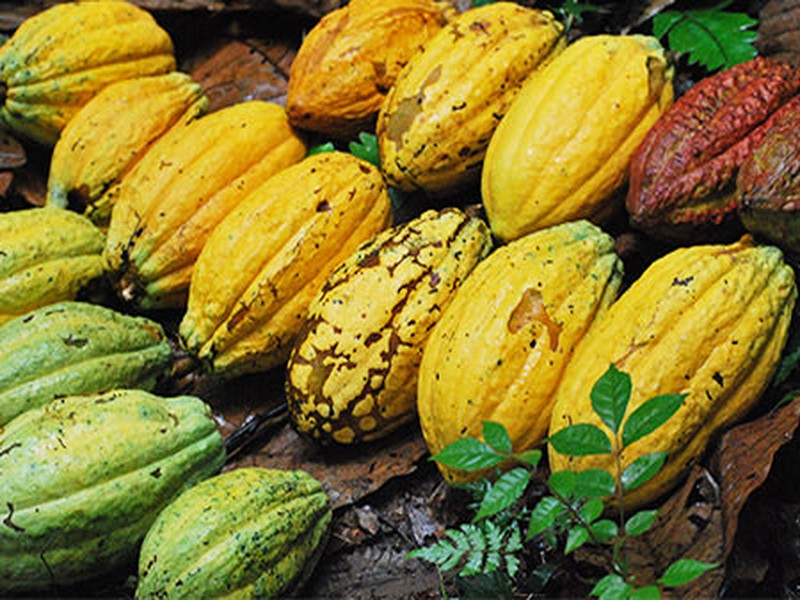Cacaopod: (547, 235, 797, 508), (182, 153, 381, 377)
